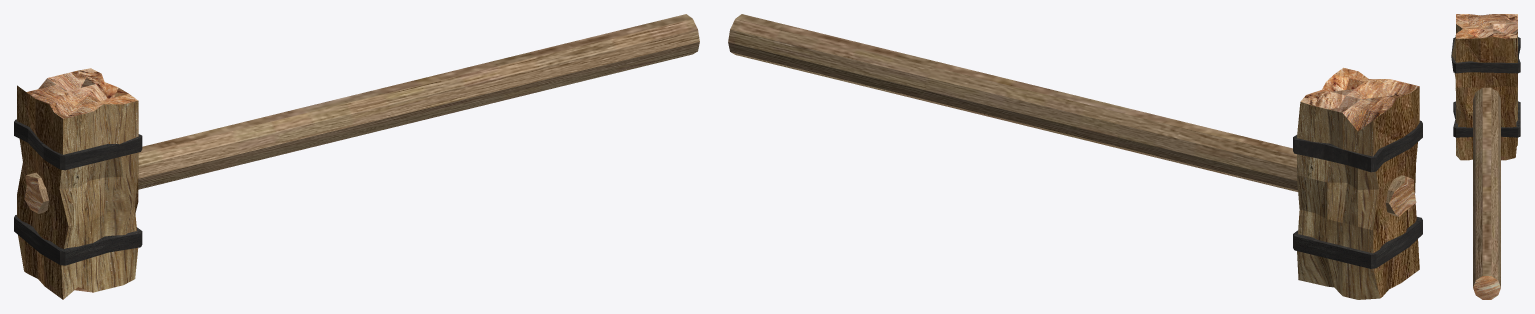
The model's file is PostMaul.fbx.
3 renders of one model, left to right at view 1: azimuth 30°, elevation 25°; view 2: azimuth 150°, elevation 25°; view 3: azimuth 270°, elevation 25°, orthographic. The views are drawn at different scales.
Visible parts, largest first — view 1: ZomboidPostMaul; view 2: ZomboidPostMaul; view 3: ZomboidPostMaul.
Part boxes in pixels (left/top/right/bottom): ZomboidPostMaul: left=14, top=14, right=699, bottom=299; ZomboidPostMaul: left=728, top=14, right=1422, bottom=299; ZomboidPostMaul: left=1451, top=14, right=1520, bottom=299.
Bounding box in the file's own units: 0.7235 × 0.1948 × 0.0976.
